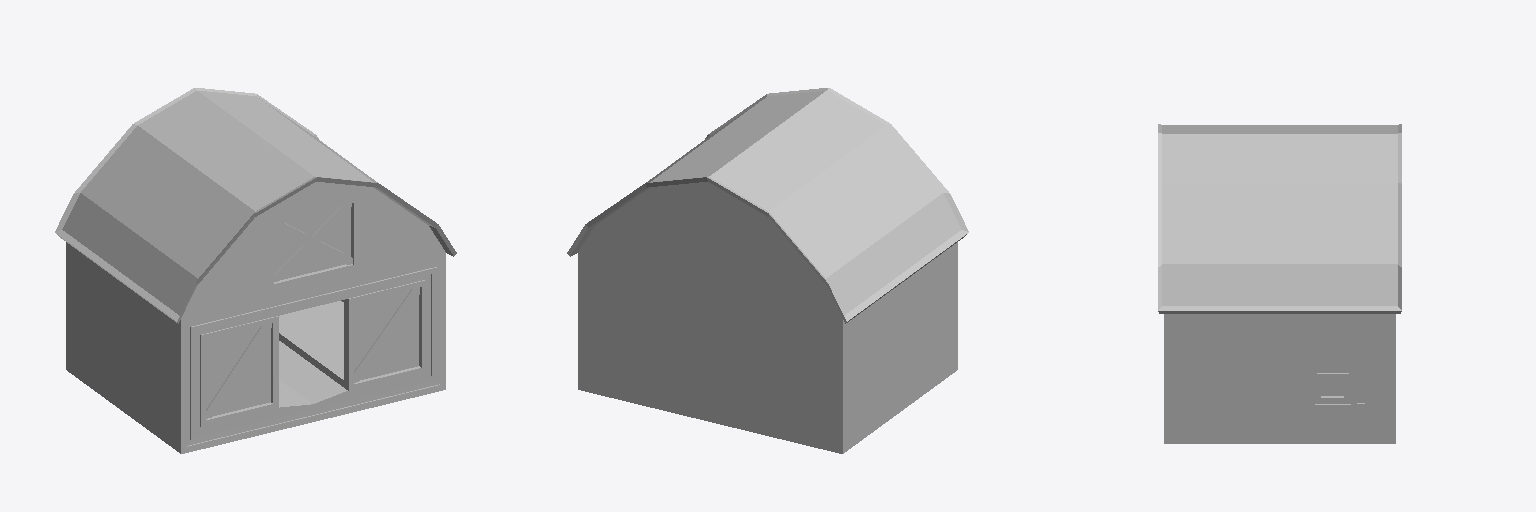
The model's file is farm.obj.
3 views of the same model, side by side, from view 1: azimuth 30°, elevation 25°; view 2: azimuth 150°, elevation 25°; view 3: azimuth 270°, elevation 25° (orthographic).
Visible parts, largest first — view 1: farm.002_Cylinder.005; view 2: farm.002_Cylinder.005; view 3: farm.002_Cylinder.005.
Part boxes in pixels (left/top/right/bottom): farm.002_Cylinder.005: left=55, top=88, right=456, bottom=453; farm.002_Cylinder.005: left=567, top=88, right=968, bottom=453; farm.002_Cylinder.005: left=1158, top=124, right=1401, bottom=443.
Bounding box in the file's own units: 2.79 × 2.36 × 2.11.